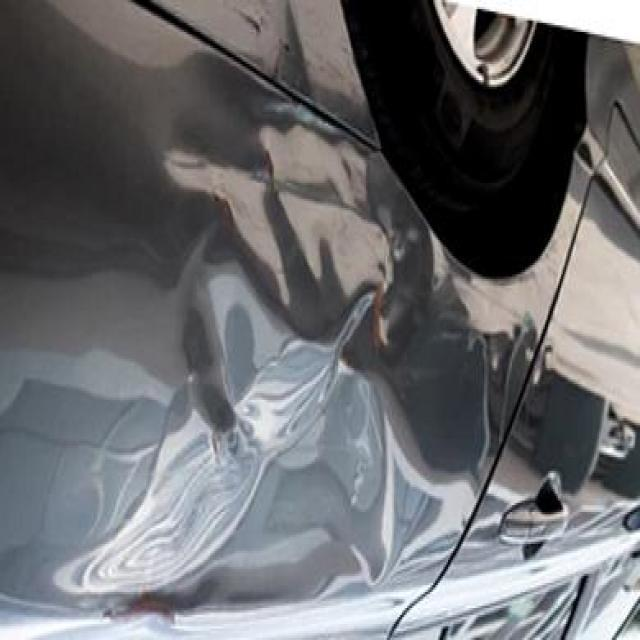dent: (1, 226, 458, 640)
